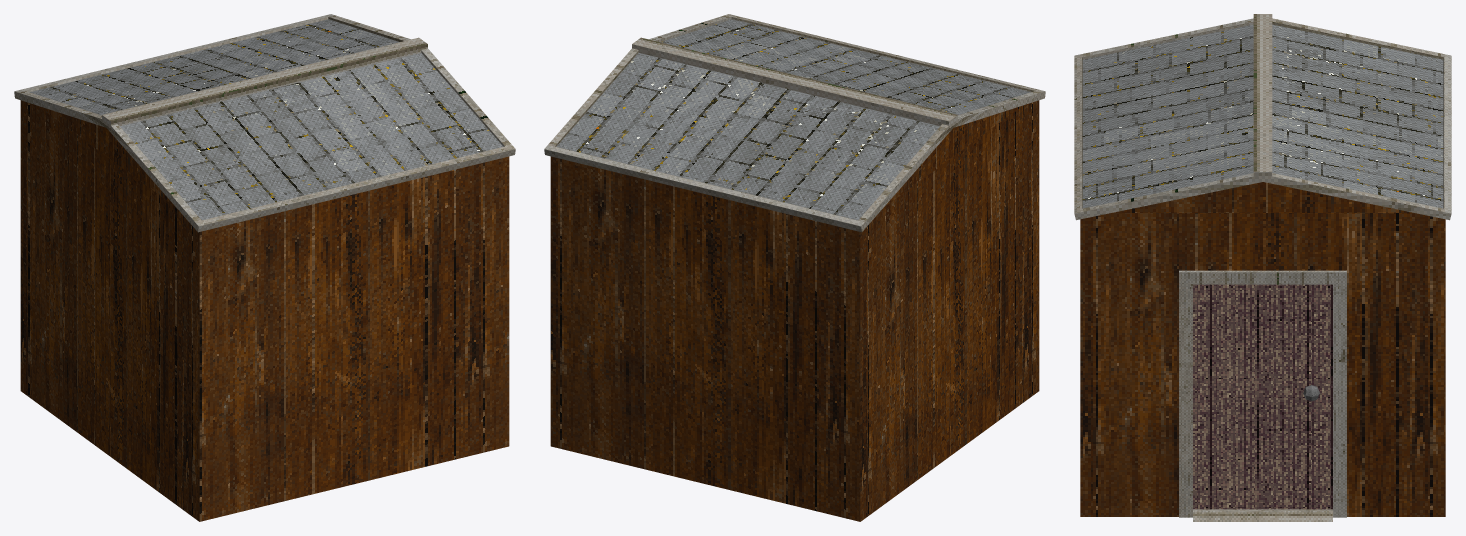
Rendered from Shed.glb.
3 renders of one model, left to right at view 1: azimuth 30°, elevation 25°; view 2: azimuth 150°, elevation 25°; view 3: azimuth 270°, elevation 25°, orthographic. The views are drawn at different scales.
Parts seen in each view (by area): view 1: Door; view 2: Door; view 3: Door.
Boxes of the visible parts, x1,y1,x2,y2 form: Door: [14, 14, 515, 521]; Door: [544, 14, 1045, 521]; Door: [1074, 14, 1451, 521].
Size of the model in its own units: 4.63 by 4.55 by 4.49.
5 materials, 5 textured.
